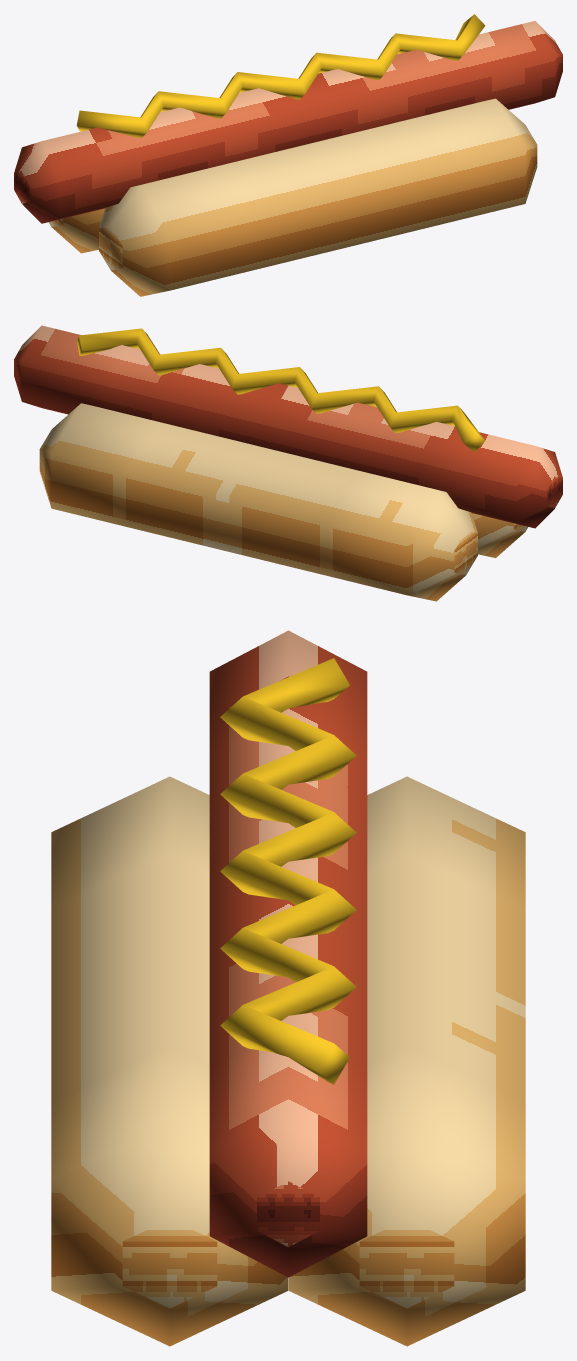
The model's file is food3-hotDog.glb.
3 renders of one model, top to bottom at view 1: azimuth 30°, elevation 25°; view 2: azimuth 150°, elevation 25°; view 3: azimuth 270°, elevation 25°, orthographic. The views are drawn at different scales.
Parts seen in each view (by area): view 1: food3.hotDog; view 2: food3.hotDog; view 3: food3.hotDog.
Boxes of the visible parts, bbox=[...] form: food3.hotDog: bbox=[14, 14, 562, 296]; food3.hotDog: bbox=[14, 325, 562, 601]; food3.hotDog: bbox=[51, 630, 525, 1346].
Bounding box in the file's own units: 1.97 × 0.5703 × 0.7601.
3 materials, 2 textured.
